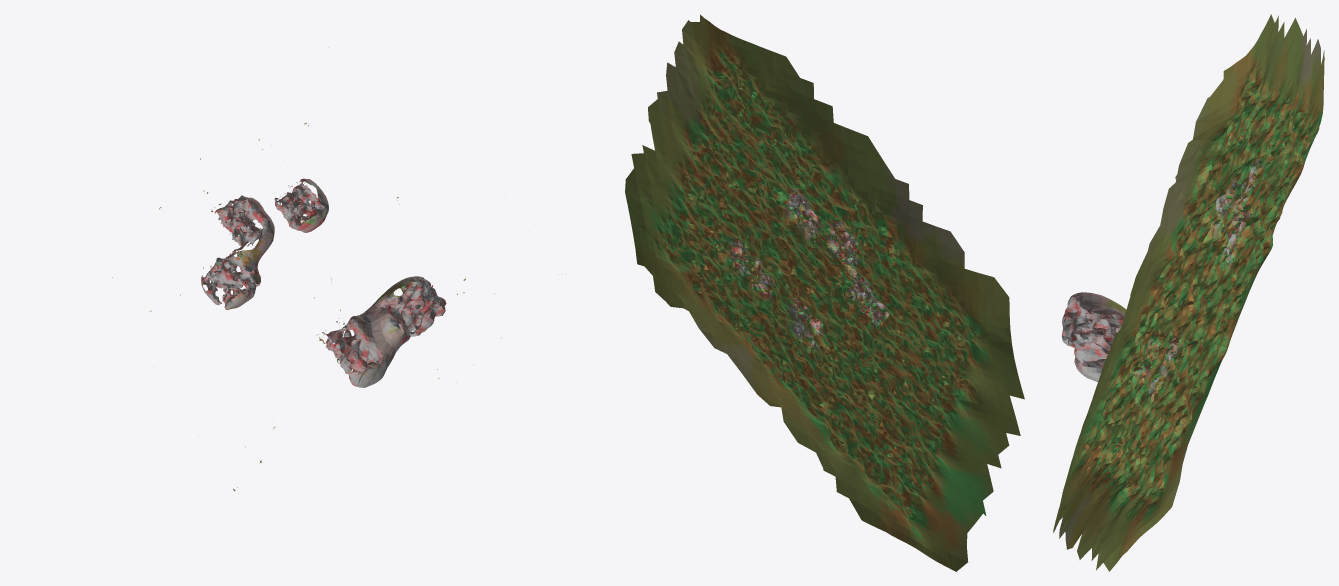
3 renders of one model, left to right at view 1: azimuth 30°, elevation 25°; view 2: azimuth 150°, elevation 25°; view 3: azimuth 270°, elevation 25°, orthographic. The views are drawn at different scales.
Visible parts, largest first — view 1: geometry_0; view 2: geometry_0; view 3: geometry_0.
Part boxes in pixels (box(x1,y1,x2,y2)): geometry_0: box(112, 47, 565, 491); geometry_0: box(625, 14, 1024, 571); geometry_0: box(1053, 14, 1324, 571).
Bounding box in the file's own units: 1567 × 1567 × 690.
